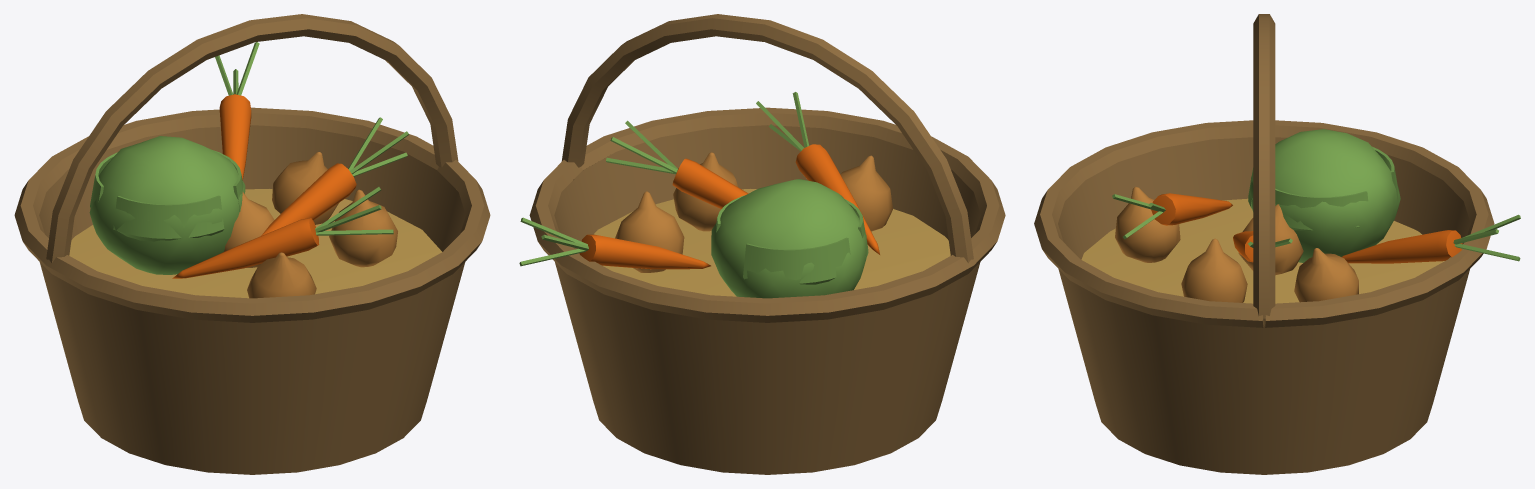
File: gemuesekorb.glb
3 views of the same model, side by side, from view 1: azimuth 30°, elevation 25°; view 2: azimuth 150°, elevation 25°; view 3: azimuth 270°, elevation 25° (orthographic). The views are drawn at different scales.
Parts seen in each view (by area): view 1: gemuesekorb; view 2: gemuesekorb; view 3: gemuesekorb.
Boxes of the visible parts, bbox=[...] form: gemuesekorb: bbox=[14, 14, 490, 474]; gemuesekorb: bbox=[519, 14, 1005, 474]; gemuesekorb: bbox=[1034, 14, 1520, 474].
Size of the model in its own units: 0.4639 by 0.4075 by 0.4906.
